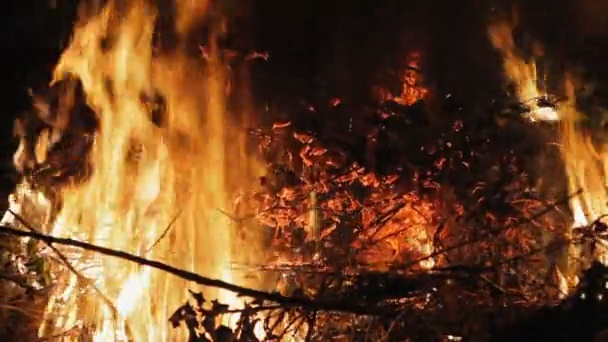fire: (1, 11, 252, 342), (561, 112, 608, 234), (513, 55, 559, 121), (414, 233, 438, 273)
